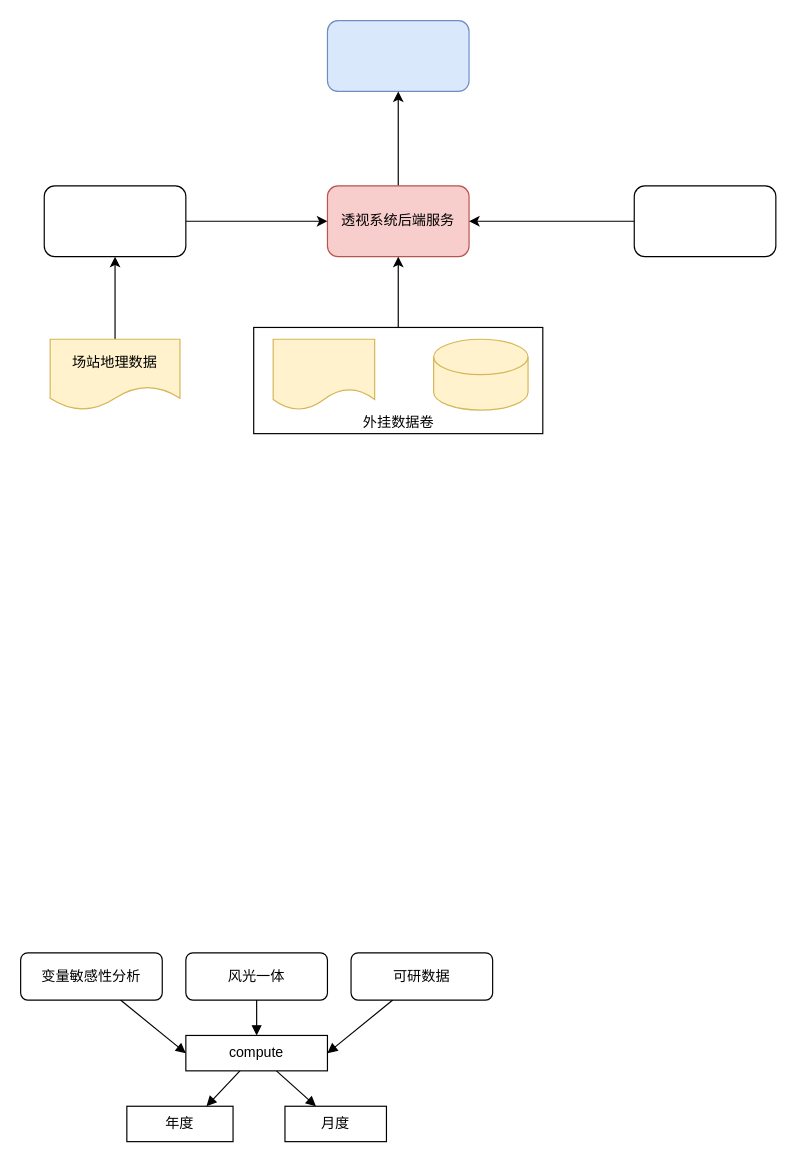
Image size: 796x1162. Some labels were removed from this diagram. Each missing label, with the centre of its shape:
"GIS服务" belongs at [114,221].
"Nginx Web UI" belongs at [397,55].
"Postgresql" belongs at [480,374].
"报告文档生成引擎" belongs at [704,221].
"配置脚本及数据" belongs at [323,374].
